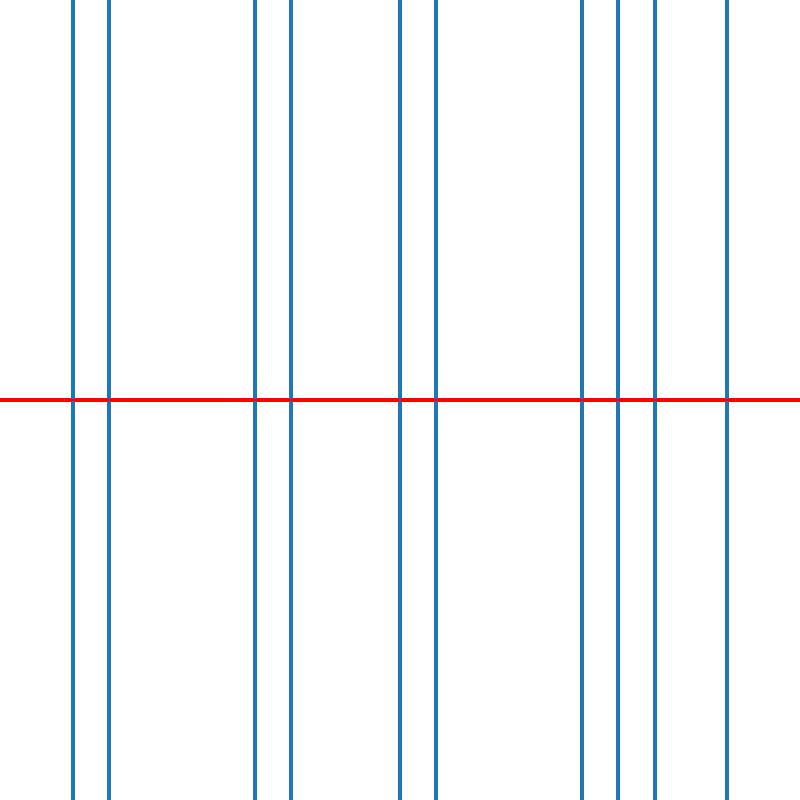root: (250, 396, 258, 404), (650, 396, 658, 404), (432, 396, 440, 404), (614, 396, 621, 404), (287, 396, 294, 404), (396, 396, 403, 404), (105, 396, 112, 404), (578, 396, 585, 404), (723, 396, 730, 404), (69, 396, 76, 404)
